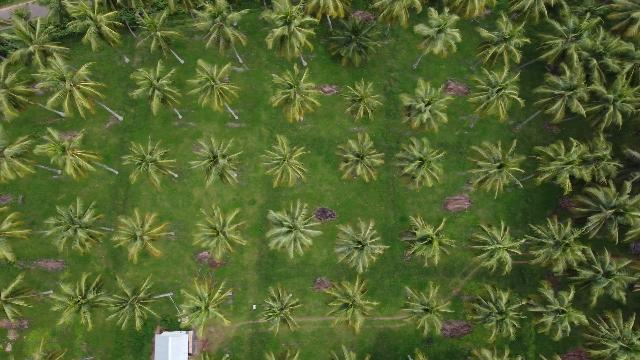trees: (530, 139, 618, 198), (559, 247, 640, 308), (32, 54, 108, 119), (575, 65, 640, 133), (520, 218, 594, 277), (40, 197, 112, 257), (530, 65, 598, 128), (570, 182, 640, 243), (533, 13, 604, 73), (464, 140, 533, 200), (4, 12, 72, 72), (34, 129, 106, 185), (465, 286, 534, 344), (48, 274, 115, 333), (264, 201, 328, 262), (472, 14, 535, 75), (467, 67, 531, 127), (262, 2, 322, 66), (526, 285, 592, 343), (103, 276, 168, 334), (324, 11, 388, 69), (463, 222, 529, 278), (322, 276, 382, 336), (178, 280, 237, 341), (64, 2, 129, 57), (191, 3, 251, 62), (111, 210, 174, 265), (192, 206, 250, 265), (269, 66, 327, 124), (331, 219, 391, 275), (129, 61, 186, 119), (400, 284, 459, 340), (399, 214, 459, 269), (186, 61, 245, 116), (189, 136, 248, 190), (121, 137, 181, 190), (414, 7, 467, 67), (260, 135, 316, 189), (130, 9, 186, 63), (580, 309, 640, 358), (395, 137, 449, 191), (400, 80, 453, 135), (2, 61, 45, 124), (334, 133, 386, 185), (258, 284, 307, 338), (2, 271, 43, 326), (2, 131, 43, 185), (341, 79, 386, 125), (2, 208, 37, 263), (375, 1, 420, 29), (27, 337, 68, 360)
